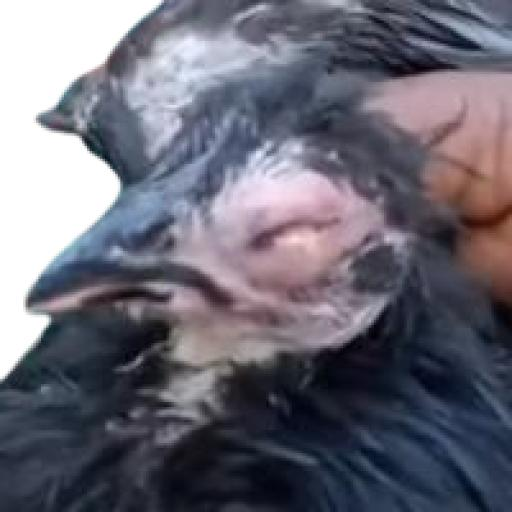disease: (219, 188, 373, 284)
